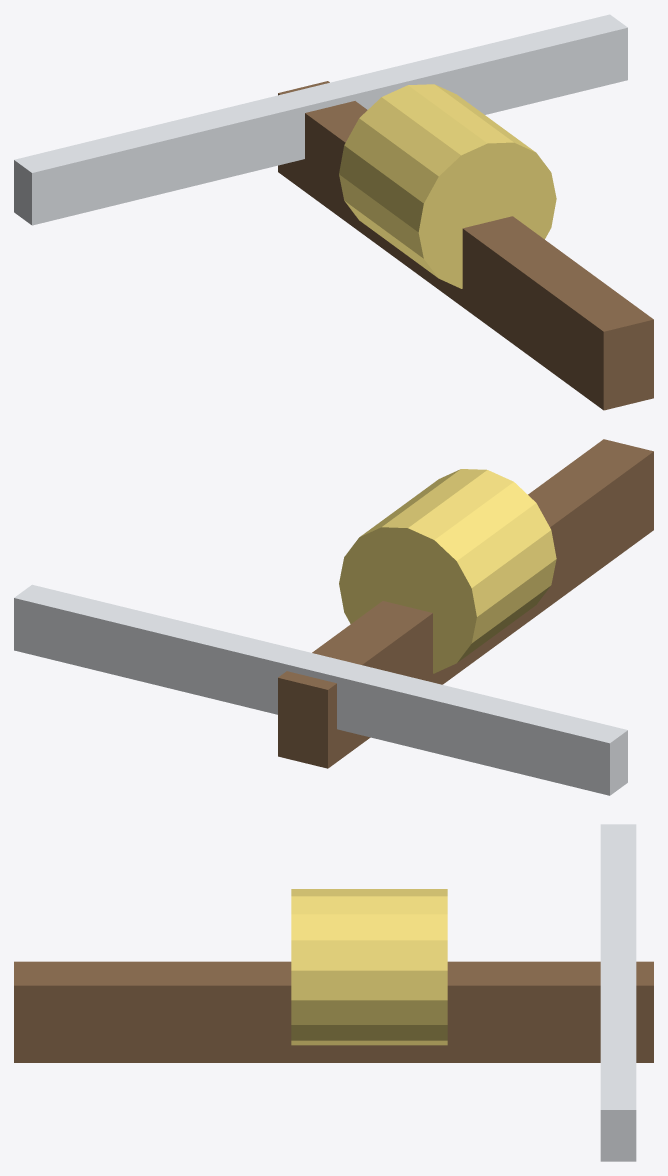
File: great_reign_crossbow.glb
3 renders of one model, top to bottom at view 1: azimuth 30°, elevation 25°; view 2: azimuth 150°, elevation 25°; view 3: azimuth 270°, elevation 25°, orthographic.
Parts seen in each view (by area): view 1: Cube.001, Cube, Cylinder; view 2: Cube.001, Cylinder, Cube; view 3: Cube, Cylinder, Cube.001.
Boxes of the visible parts, x1=… form: Cube.001: x1=14, y1=14, x2=627, y2=225; Cube: x1=278, y1=81, x2=653, y2=410; Cylinder: x1=339, y1=84, x2=556, y2=288; Cube.001: x1=14, y1=584, x2=627, y2=795; Cylinder: x1=339, y1=469, x2=556, y2=673; Cube: x1=278, y1=439, x2=653, y2=768; Cube: x1=14, y1=961, x2=653, y2=1062; Cylinder: x1=291, y1=889, x2=447, y2=1045; Cube.001: x1=600, y1=824, x2=636, y2=1161.
Bounding box in the file's own units: 0.95 × 0.24 × 0.9.
